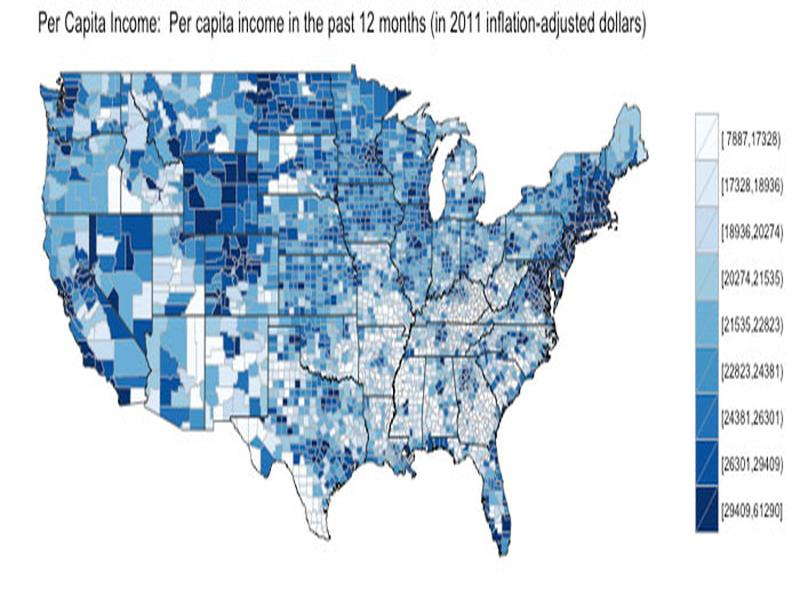legend: (689, 110, 786, 537)
